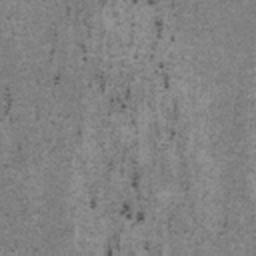Oxide scale of temperature system: (47, 0, 179, 256), (1, 86, 14, 124), (76, 122, 84, 137)
